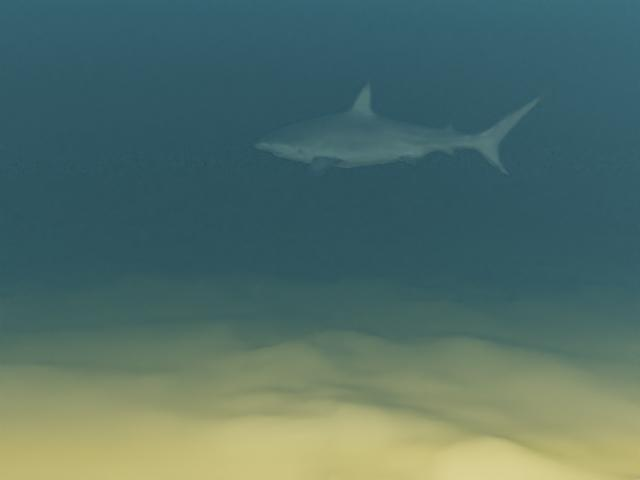Carribean Shark.001: (255, 81, 551, 177)
